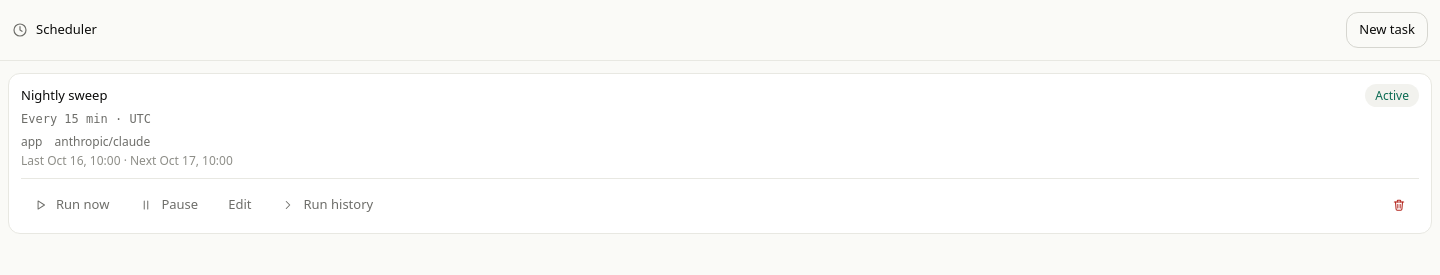
SchedulerPanel › surfaces the server error copy when a run-now is rejected
The image size is (1440, 275).
Expected: the text "Nightly sweep" is shown, x1=21 y1=86 x2=107 y2=104
What coordinates should you click on to do the following:
click the button "Run now"
I would click on:
 (72, 205)
Its box is x1=21 y1=187 x2=122 y2=223.
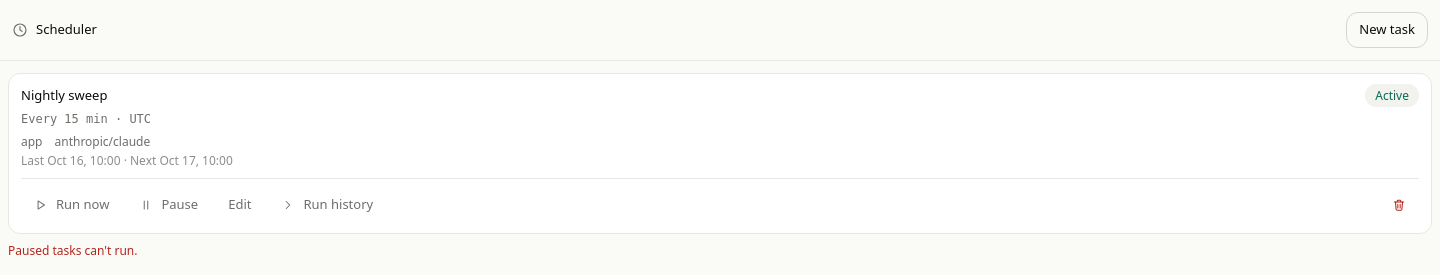
Expected: the text "Paused tasks can't run." is shown, x1=8 y1=242 x2=138 y2=259
